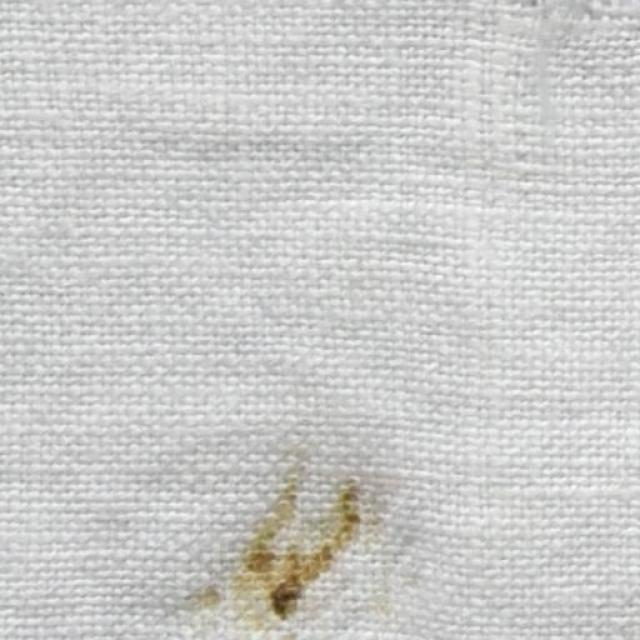Stain: (158, 465, 365, 640)
